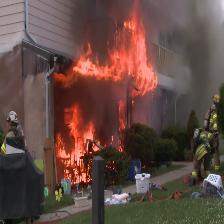fire: (55, 5, 157, 210)
smoke: (177, 0, 224, 124), (70, 0, 119, 57)
